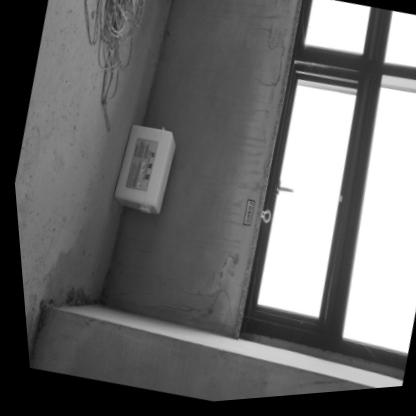DDL: (102, 118, 181, 222)
